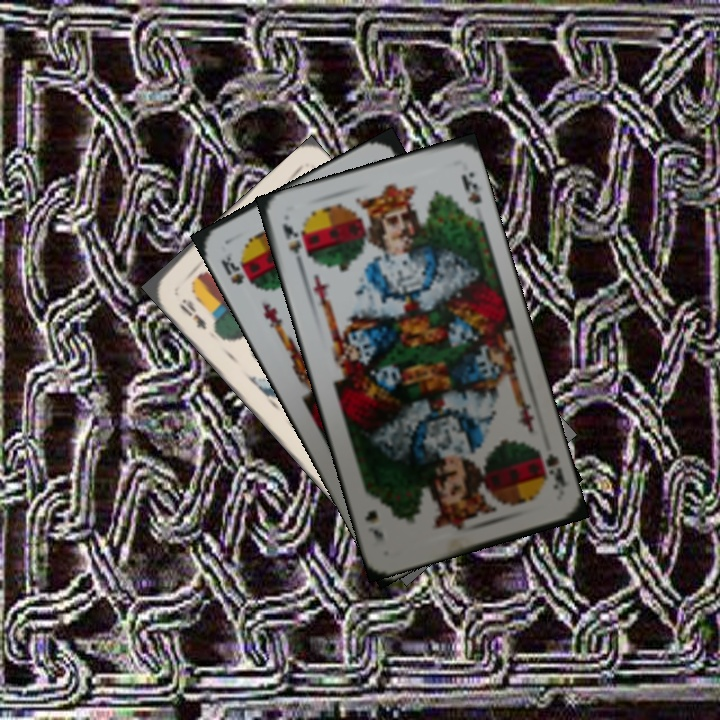EO: (175, 294, 209, 333)
SK: (278, 219, 308, 273), (541, 449, 570, 493), (216, 252, 247, 287)
